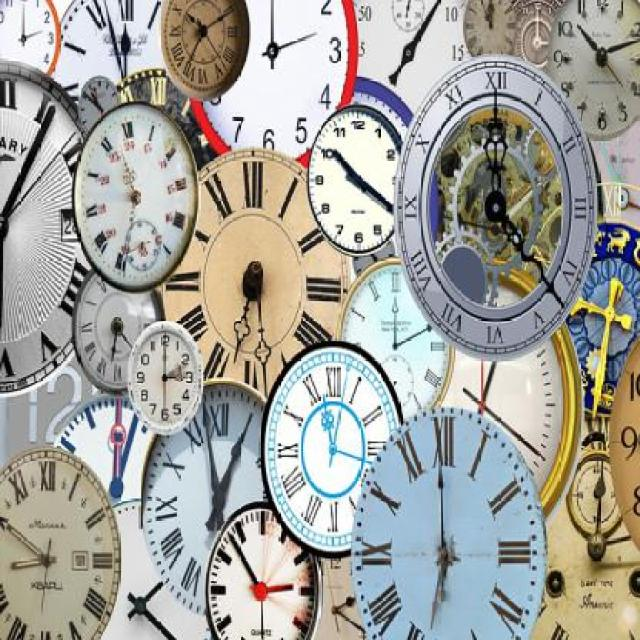clock: (363, 420, 545, 640), (77, 111, 198, 284), (313, 110, 400, 247), (214, 518, 311, 636)
